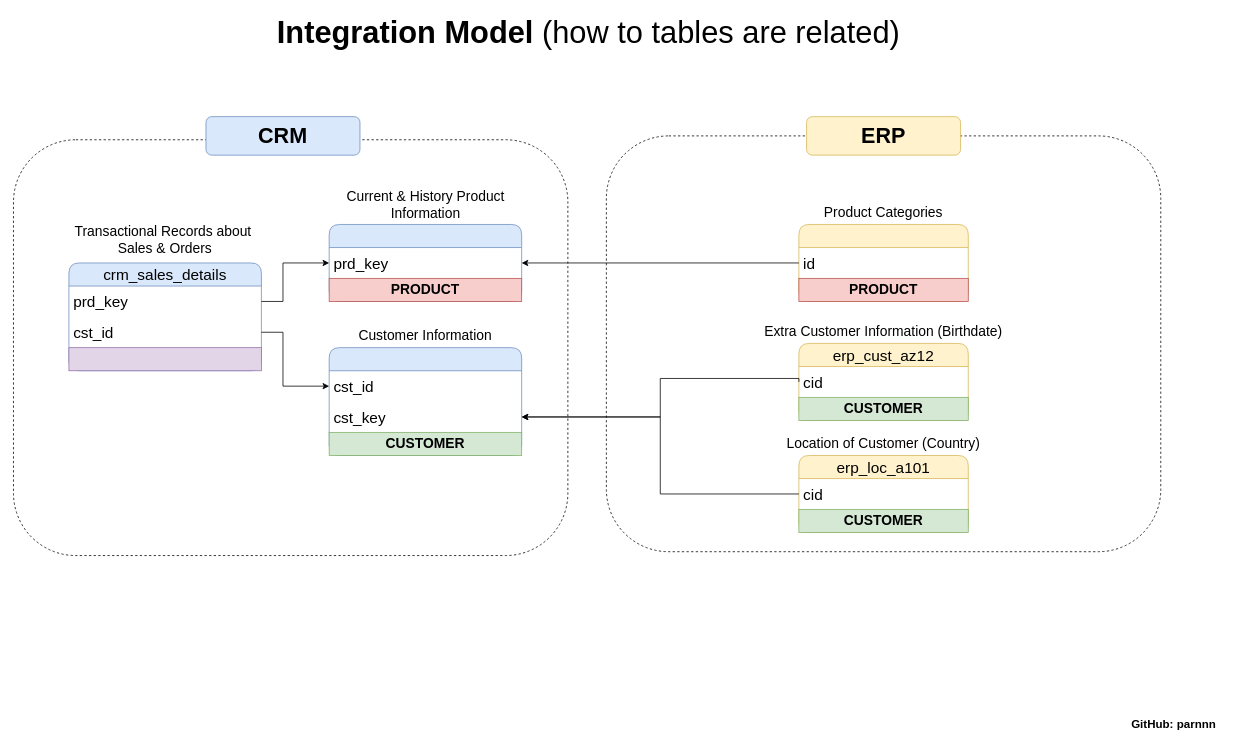
This 1237x748 diagram has some shape labels left out. Here are the shapes that lost their labels. From the top down, the box of each, then its label:
(328, 224, 522, 301): prd_info
(798, 224, 968, 301): erp_px_cat_g1v2
(68, 347, 261, 371): SALES
(328, 347, 522, 455): crm_cust_info
